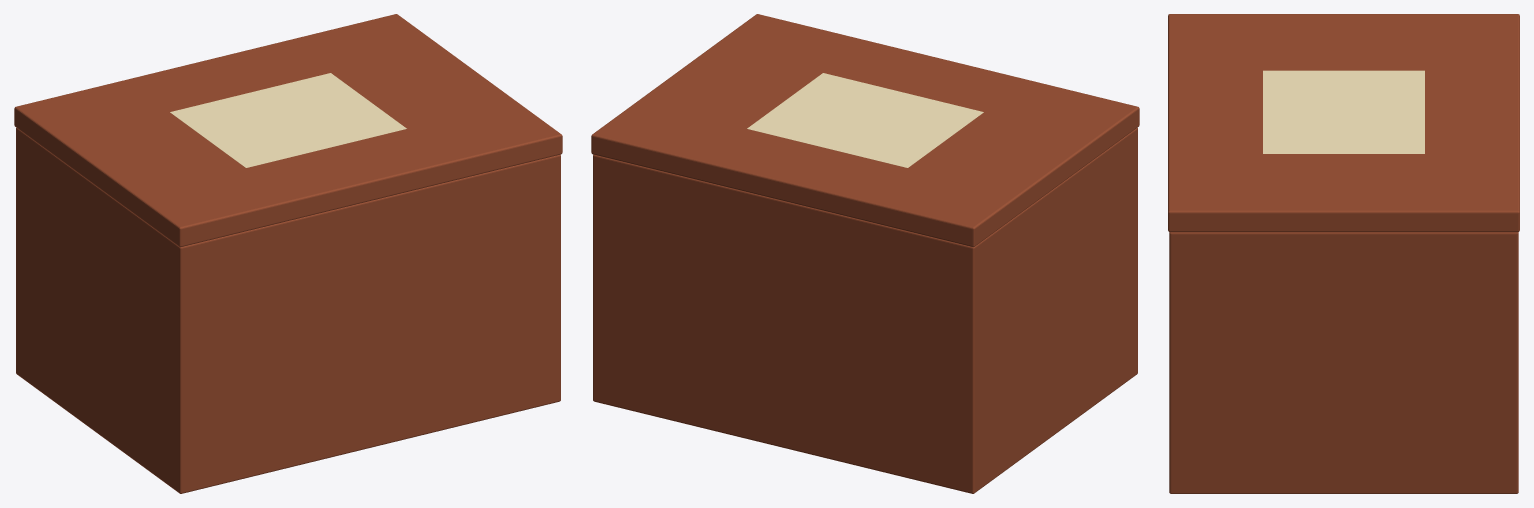
File: teabox.glb
The picture shows the model from 3 angles, left to right: view 1: azimuth 30°, elevation 25°; view 2: azimuth 150°, elevation 25°; view 3: azimuth 270°, elevation 25°; orthographic projection. The views are drawn at different scales.
Parts seen in each view (by area): view 1: teabox; view 2: teabox; view 3: teabox.
Part boxes in pixels (bbox=[...]): teabox: bbox=[14, 14, 562, 493]; teabox: bbox=[591, 14, 1139, 493]; teabox: bbox=[1168, 14, 1519, 493].
Size of the model in its own units: 0.12 by 0.08 by 0.09.
